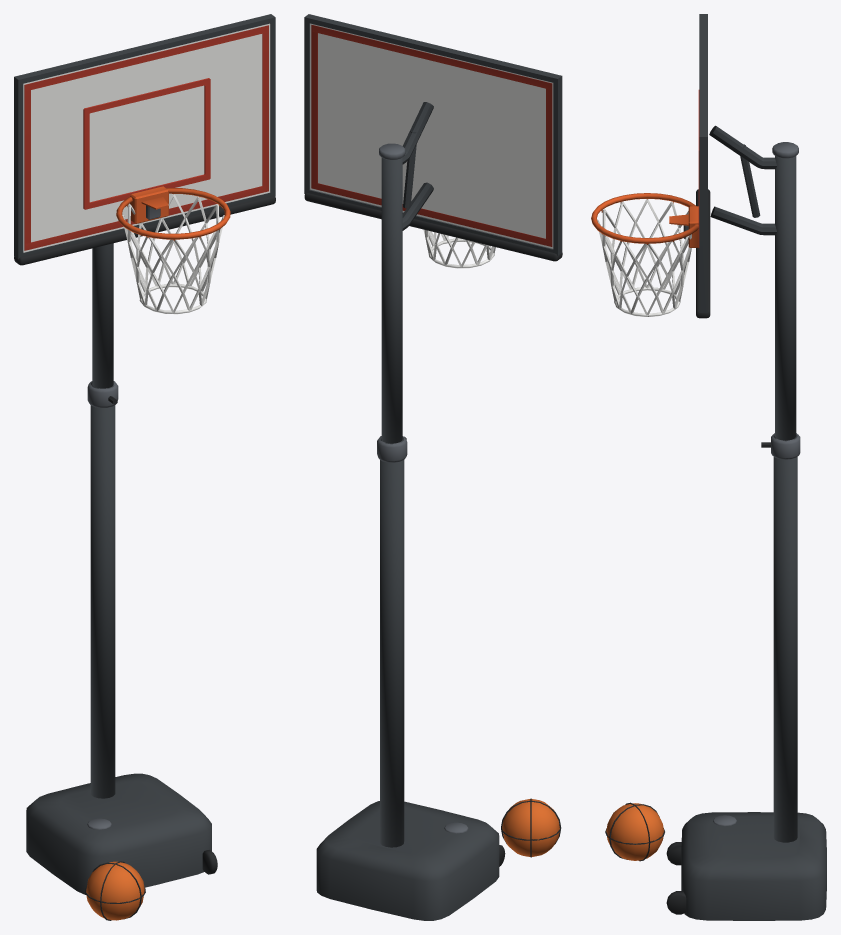
The model's file is basketballHoop.glb.
3 views of the same model, side by side, from view 1: azimuth 30°, elevation 25°; view 2: azimuth 150°, elevation 25°; view 3: azimuth 270°, elevation 25° (orthographic).
Visible parts, largest first — view 1: hoop, net, ball; view 2: hoop, ball, net; view 3: hoop, net, ball.
Part boxes in pixels (<box>): hoop: <box>14,14,275,894</box>; net: <box>122,194,224,314</box>; ball: <box>85,861,145,920</box>; hoop: <box>304,14,562,920</box>; ball: <box>501,798,561,857</box>; net: <box>423,229,495,268</box>; hoop: <box>591,14,826,920</box>; net: <box>597,199,691,316</box>; ball: <box>605,802,664,861</box>.
Size of the model in its own units: 1.2 by 3.7 by 0.972.
